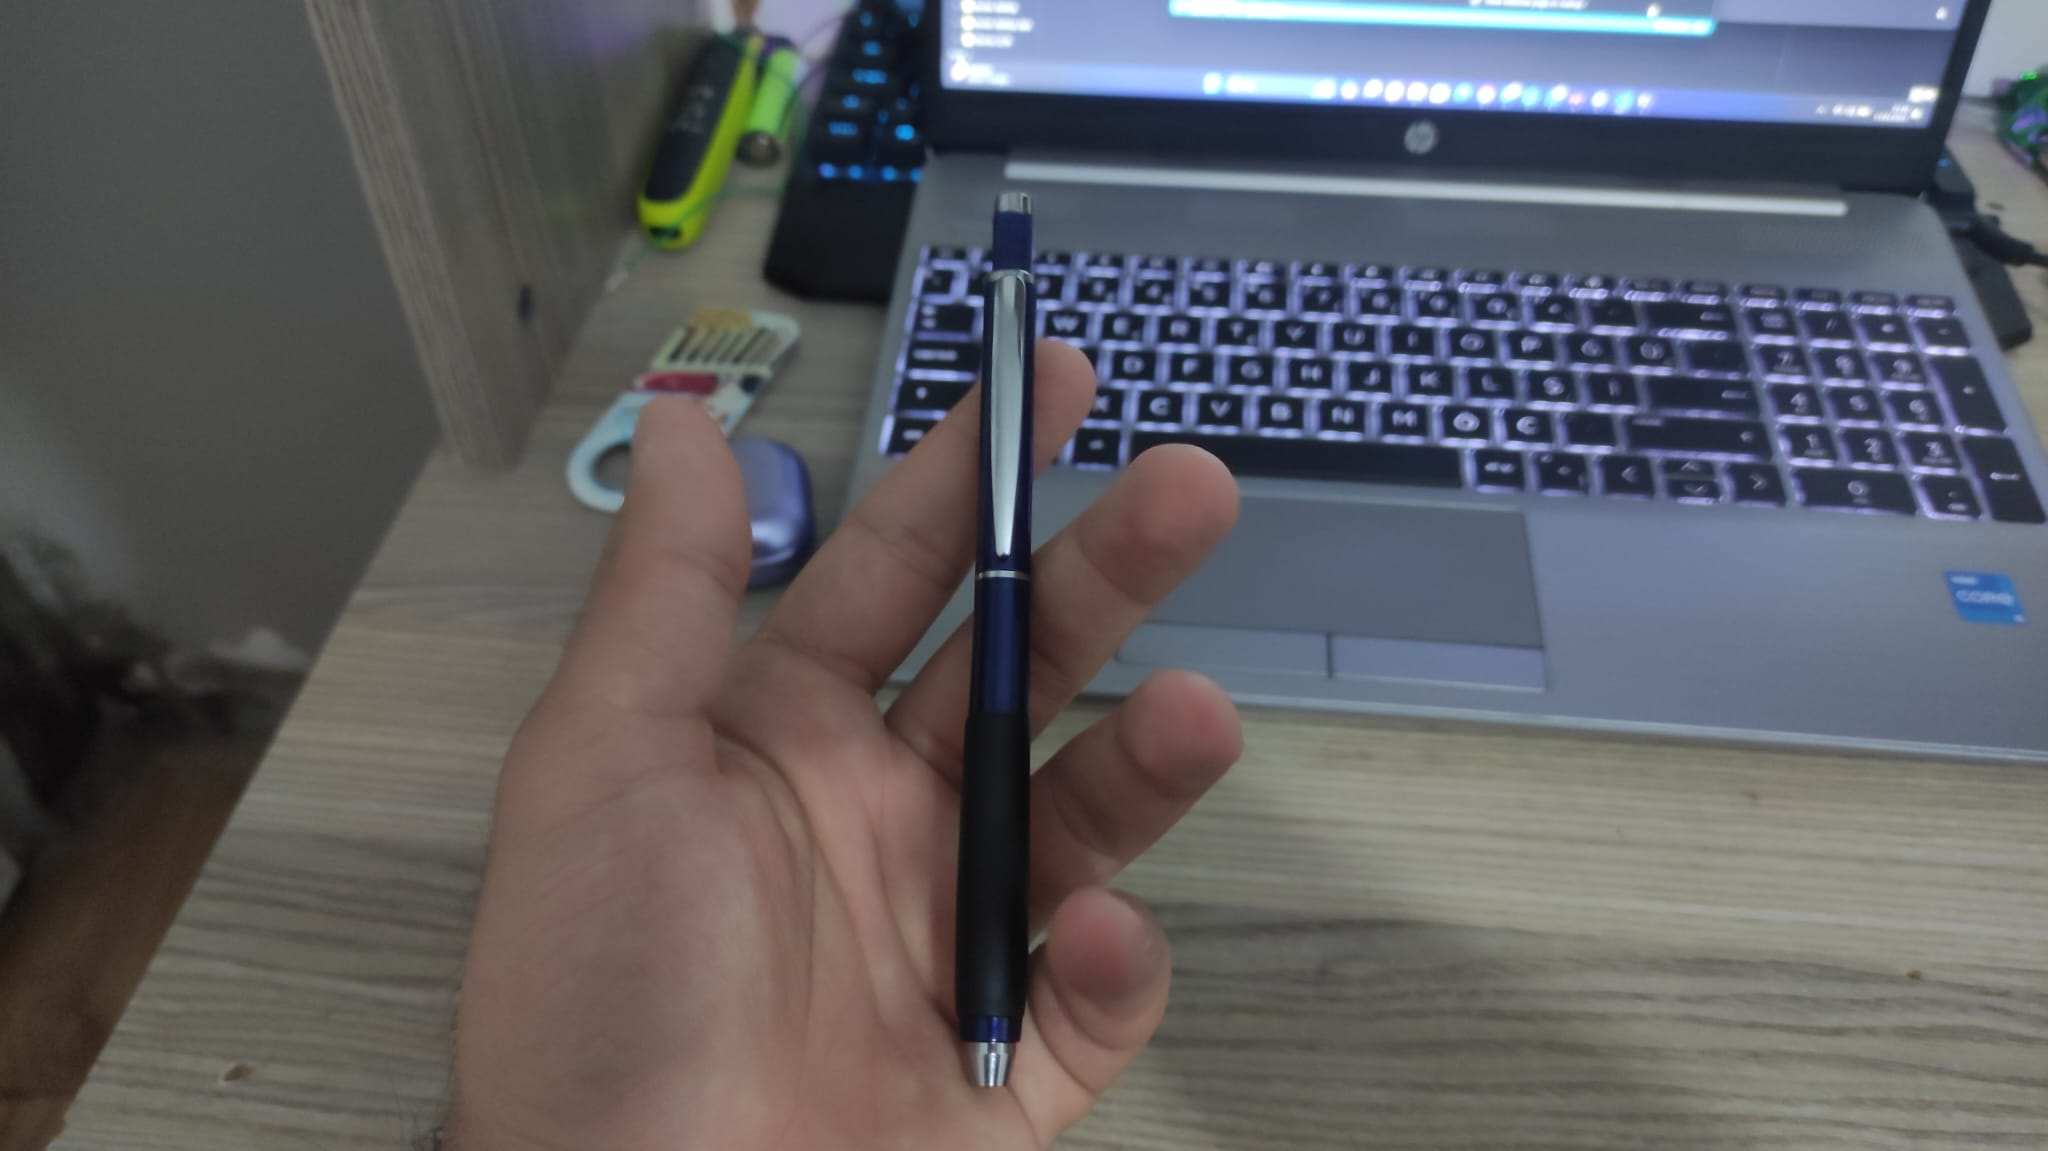kalem: (954, 182, 1030, 1090)
